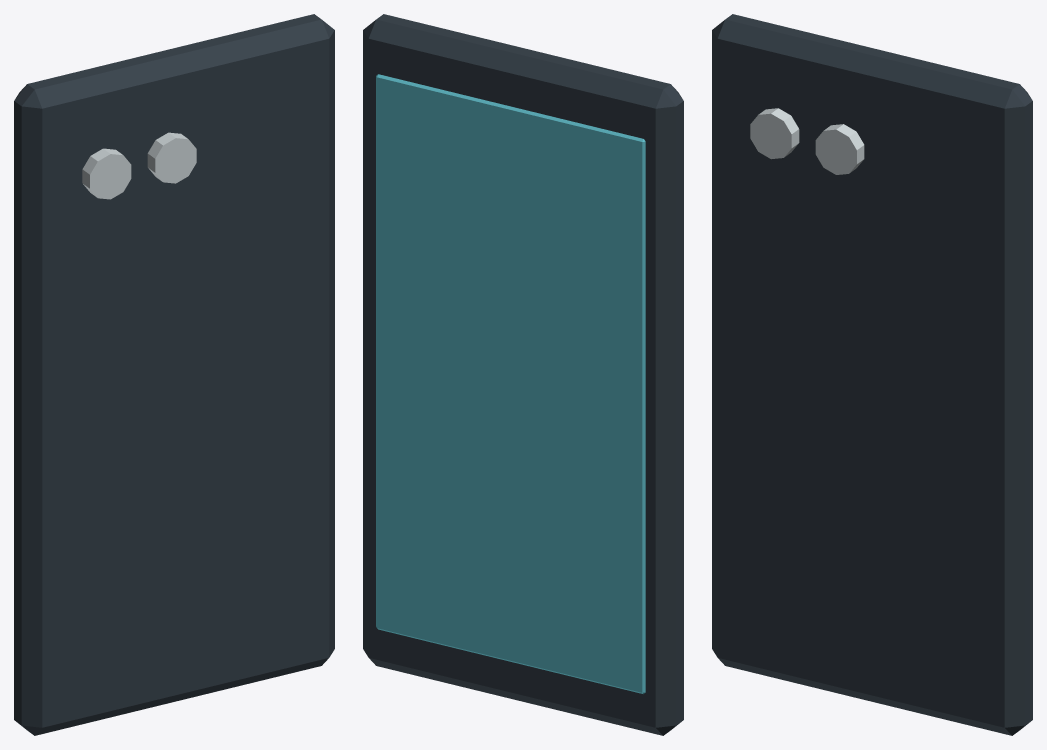
The model's file is sm_prop_phone_refined.glb.
3 views of the same model, side by side, from view 1: azimuth 30°, elevation 25°; view 2: azimuth 150°, elevation 25°; view 3: azimuth 330°, elevation 25° (orthographic).
Visible parts, largest first — view 1: PhoneBody, Camera.001, Camera; view 2: Screen, PhoneBody; view 3: PhoneBody, Camera.001, Camera.
Part boxes in pixels (left/top/right/bottom): PhoneBody: left=14, top=14, right=334, bottom=735; Camera.001: left=147, top=132, right=196, bottom=183; Camera: left=82, top=148, right=131, bottom=199; Screen: left=376, top=74, right=645, bottom=693; PhoneBody: left=363, top=14, right=683, bottom=735; PhoneBody: left=712, top=14, right=1032, bottom=735; Camera.001: left=815, top=124, right=864, bottom=174; Camera: left=750, top=108, right=799, bottom=159.
Bounding box in the file's own units: 0.072 × 0.142 × 0.013.
